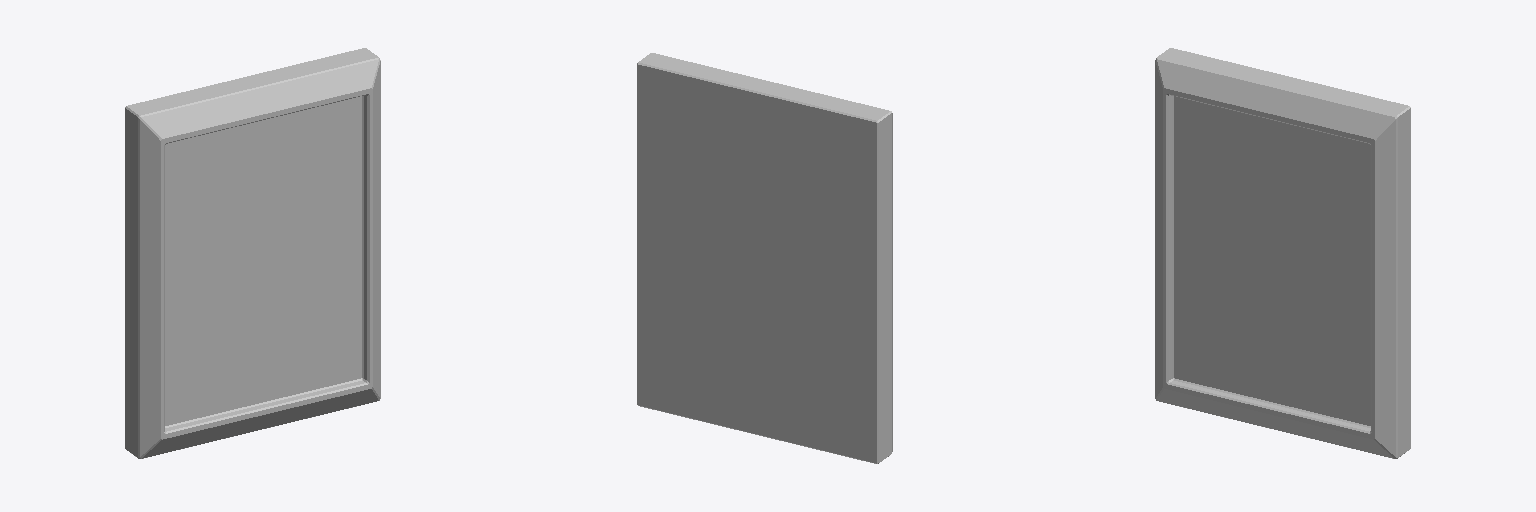
The model's file is Frame.obj.
The picture shows the model from 3 angles: view 1: azimuth 30°, elevation 25°; view 2: azimuth 150°, elevation 25°; view 3: azimuth 330°, elevation 25°; orthographic projection.
Visible parts, largest first — view 1: pCube2; view 2: pCube2; view 3: pCube2.
Boxes of the visible parts, box(x1,y1,x2,y2) form: pCube2: box(125, 48, 380, 458); pCube2: box(637, 53, 892, 463); pCube2: box(1155, 48, 1410, 458).
Size of the model in its own units: 12.18 by 16.52 by 1.89.